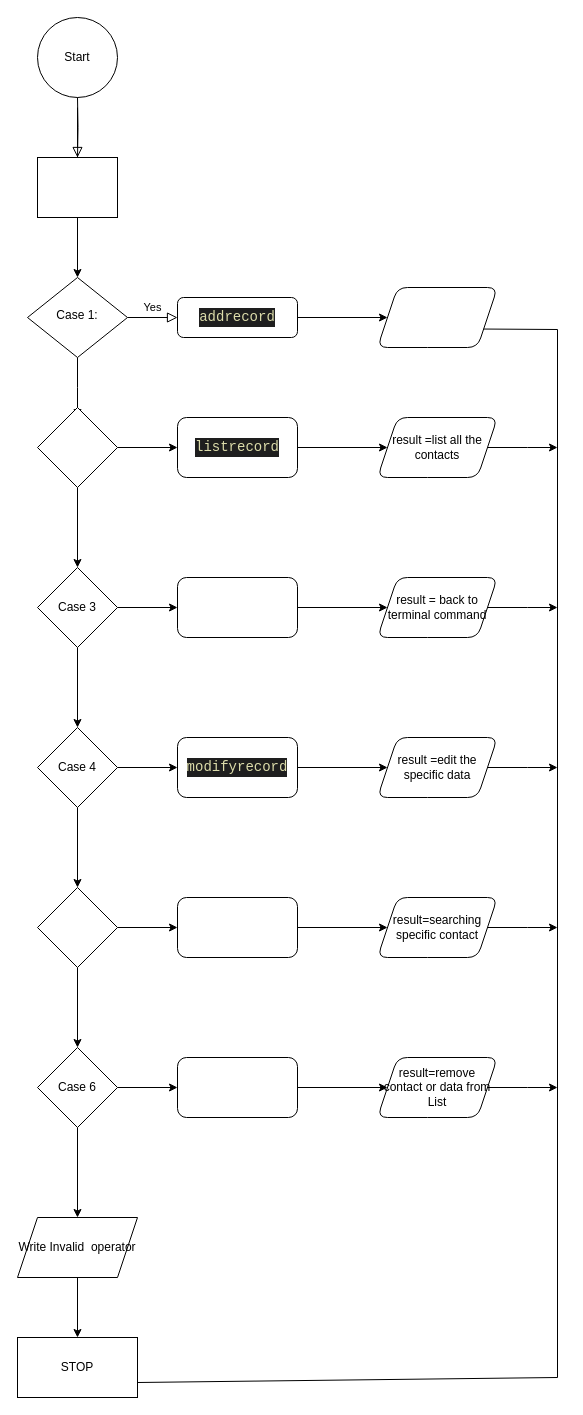
Some shapes in this 583 by 1415 pixel diagram are drawn without their labels. The centre of each missing label's shape, as x and y in pixels:
"Case 2" belongs at (77,447).
"Case 5" belongs at (77,927).
"deleterecord" belongs at (237,1087).
"Enter Choice" belongs at (77,187).
"exit" belongs at (237,607).
"result=Add new Data" belongs at (437,317).
"searchrecord" belongs at (237,927).
